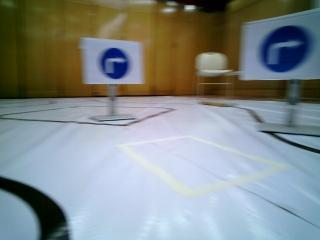right: (244, 21, 320, 76), (85, 40, 143, 83)
